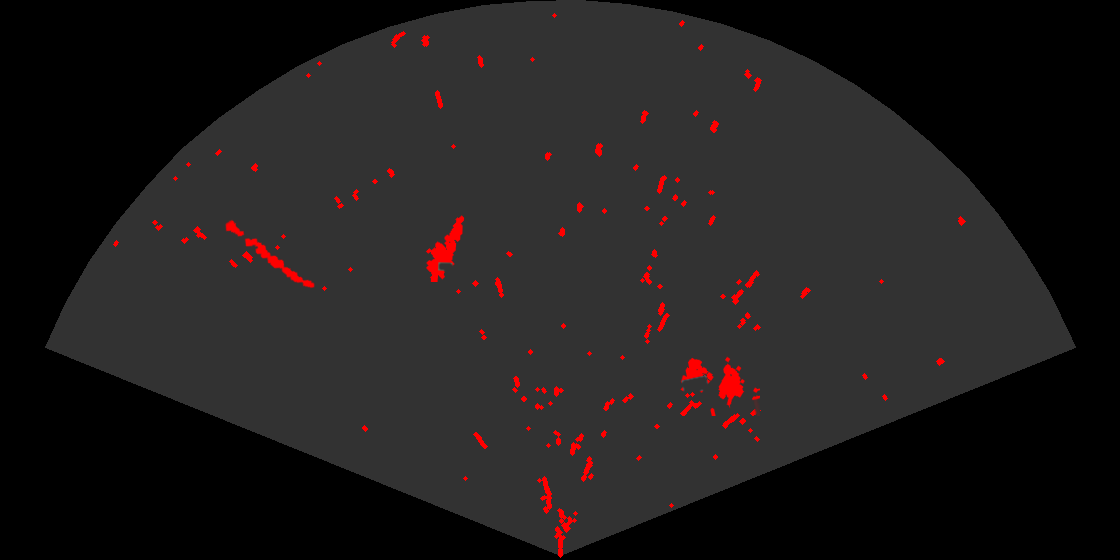cage: (679, 355, 760, 416)
chain: (224, 218, 316, 290)
frogman: (424, 214, 466, 282)
